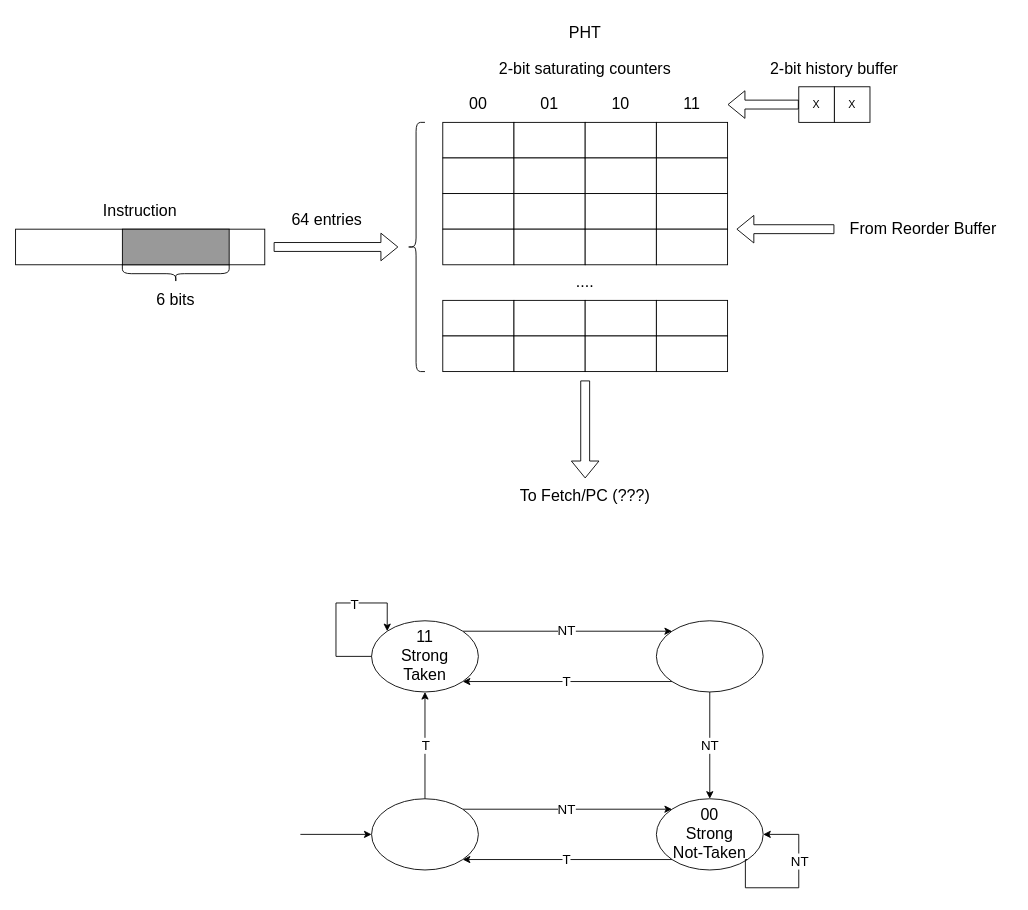
The diagram is 1028 pixels wide and 910 high, and some of its shapes have lost their labels. The centre of each missing label's shape, as x and y in pixels:
"01 Weak Not-Taken" belongs at point (424, 834).
"10 Weak Taken" belongs at point (709, 656).
